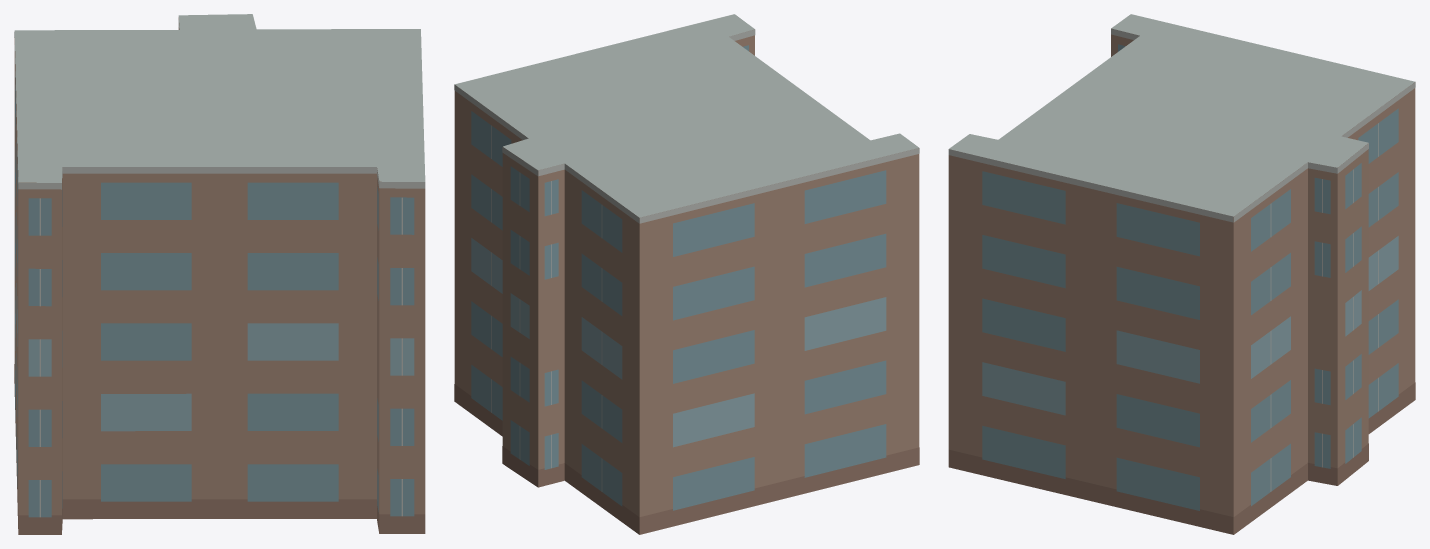
File: survey-upis-32705775.glb
3 views of the same model, side by side, from view 1: azimuth 30°, elevation 25°; view 2: azimuth 150°, elevation 25°; view 3: azimuth 270°, elevation 25° (orthographic). The views are drawn at different scales.
Visible parts, largest first — view 1: survey-upis-32705775.tmp; view 2: survey-upis-32705775.tmp; view 3: survey-upis-32705775.tmp.
Part boxes in pixels (x1=…): survey-upis-32705775.tmp: x1=14, y1=14, x2=425, y2=534; survey-upis-32705775.tmp: x1=454, y1=14, x2=919, y2=534; survey-upis-32705775.tmp: x1=948, y1=14, x2=1415, y2=534.
Bounding box in the file's own units: 17.62 × 12.9 × 17.16.
